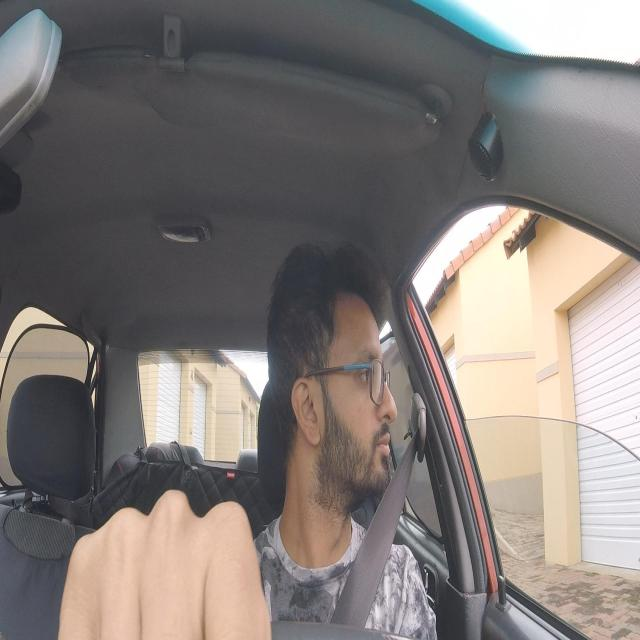open: (348, 343, 384, 406)
